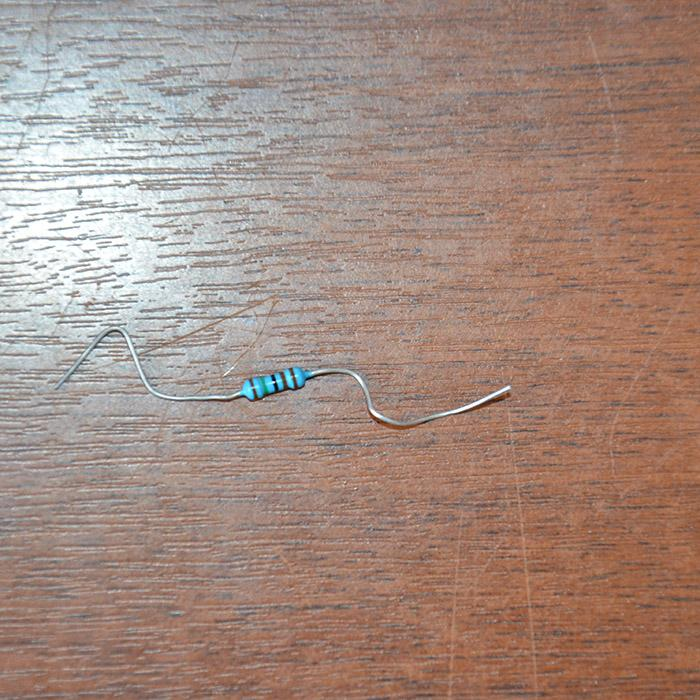resistor: (238, 366, 310, 401)
